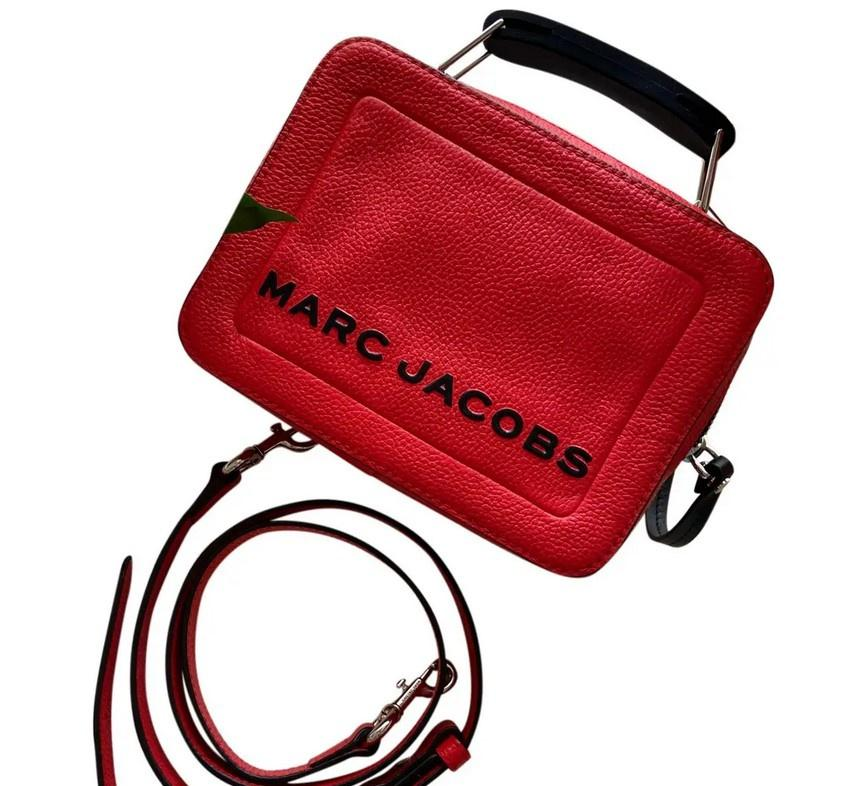MARC-JACOBS: (257, 269, 591, 479)
